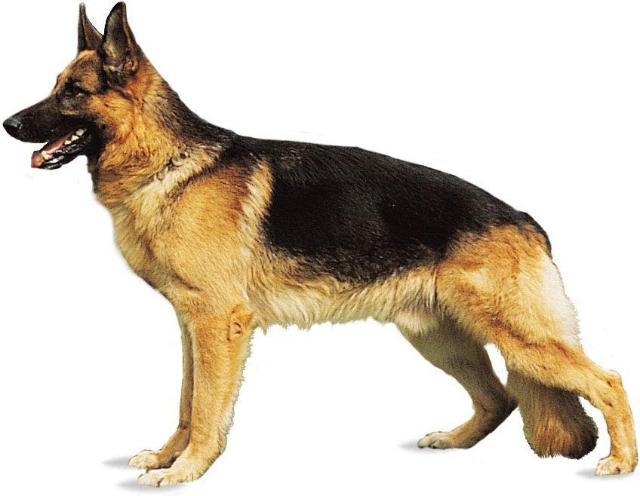dog: (4, 5, 638, 488)
